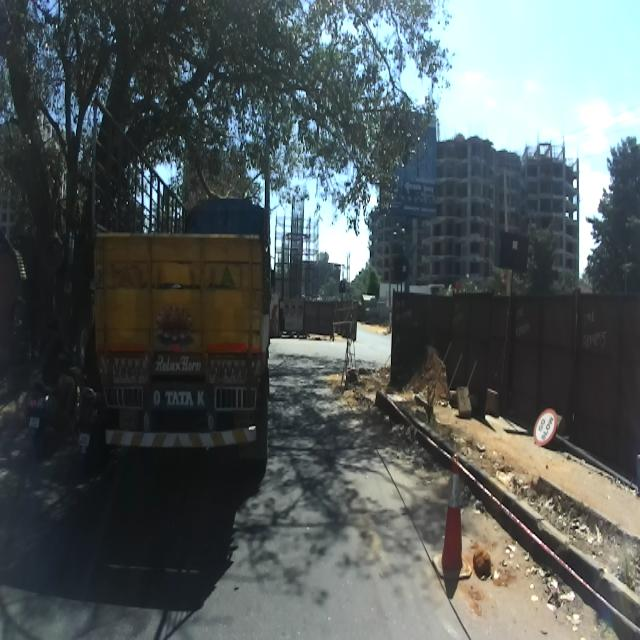barrier ahead at: (420, 438, 478, 606)
truck ahead at: (82, 90, 273, 468)
